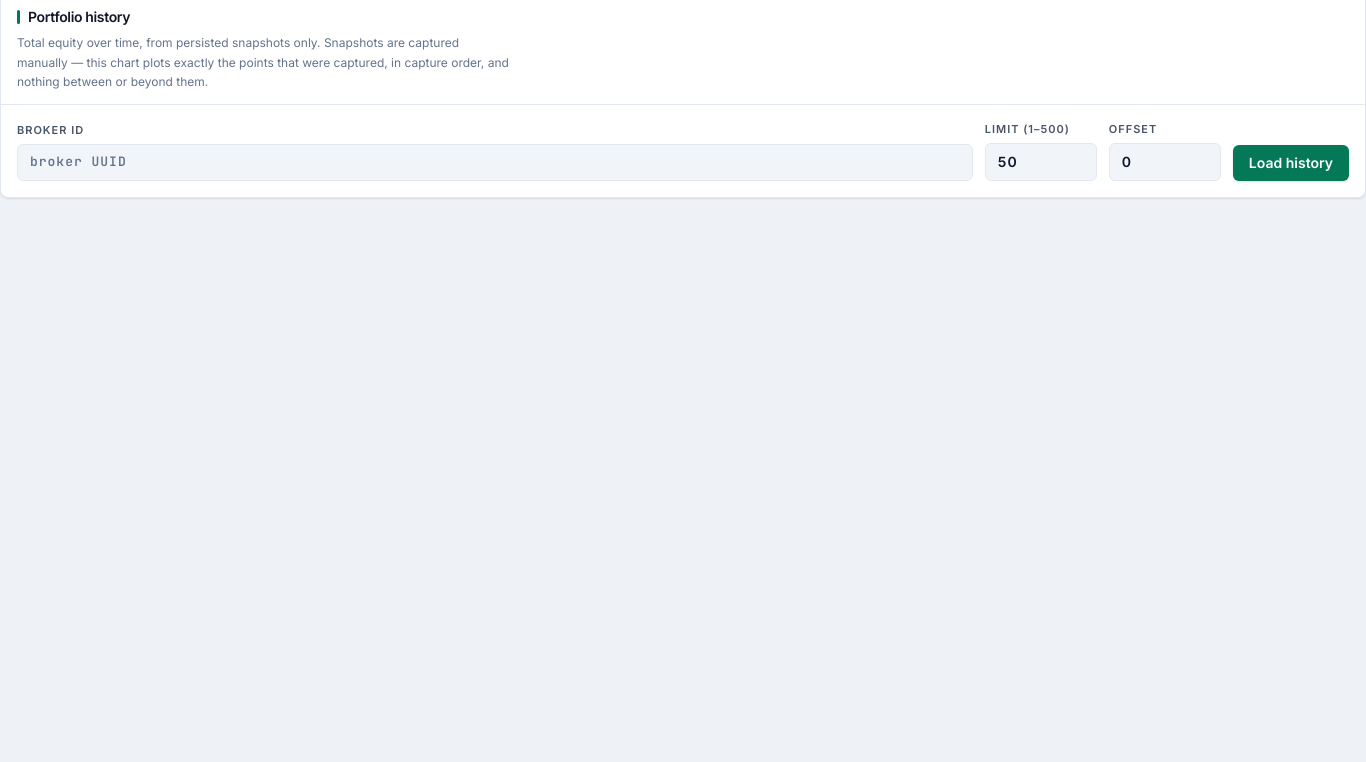
Test: PortfolioHistoryChart › charts the real snapshots the backend returned
Type "b-1" into the field labelled "Broker ID".
click(495, 163); type("b-1")  # box [17,144,973,181]
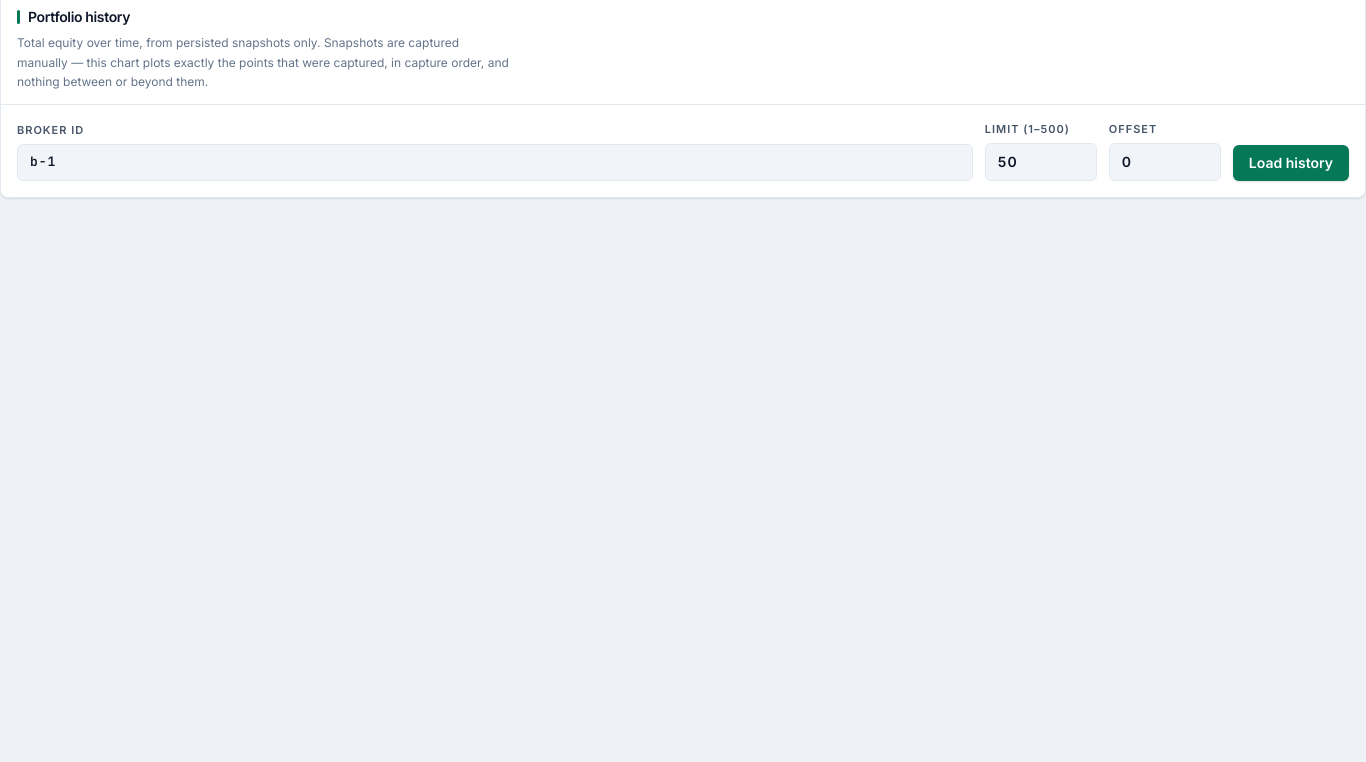
Click the button "Load history".
click(1291, 163)  # box [1233,145,1349,181]
(page scrolled)
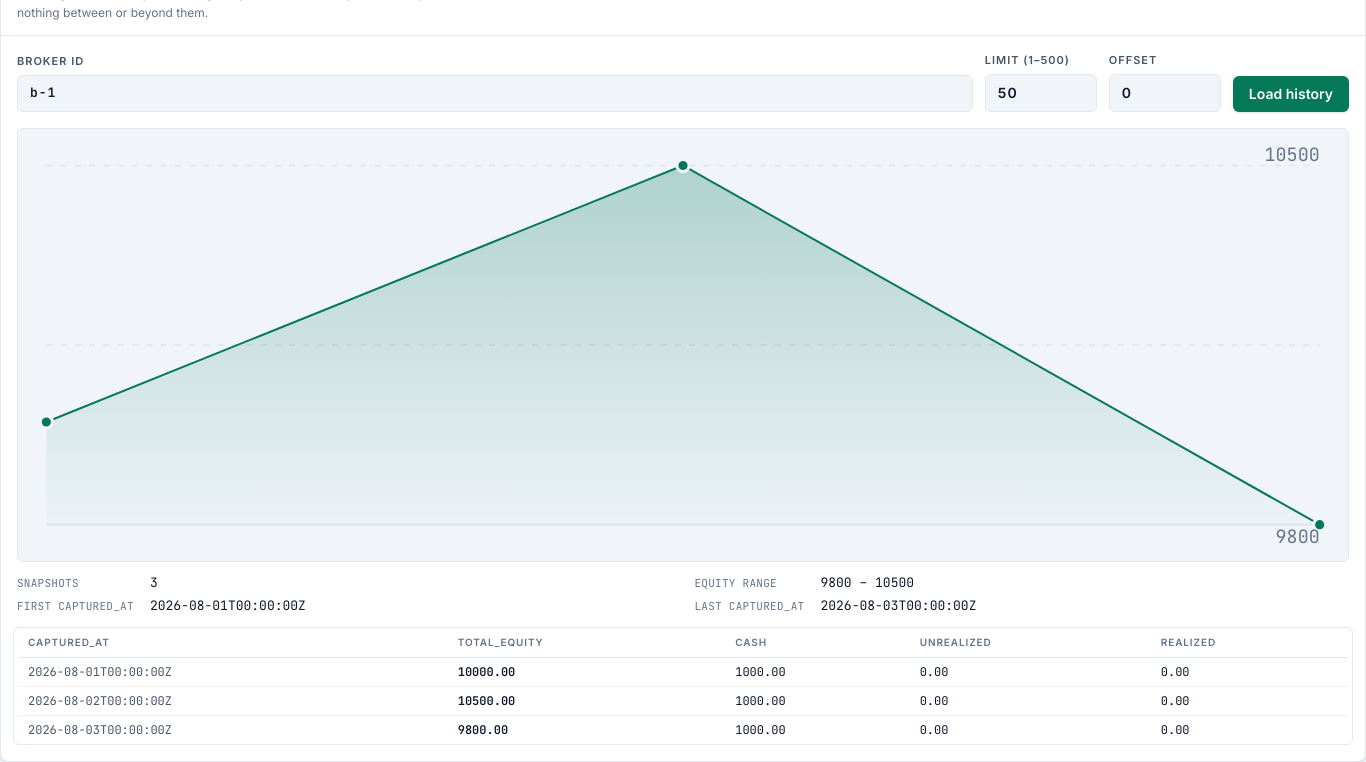
Check: the element with test id "equity-line" is shown, box [46,166,1320,525]
Check: the text "10500.00" is shown, box [448,687,725,716]
